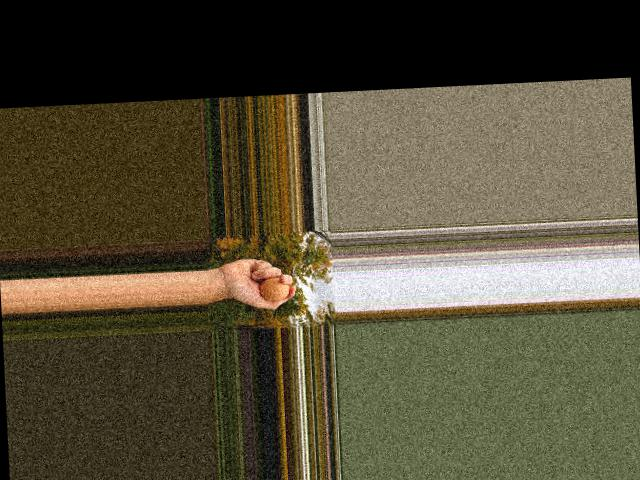egg: (259, 275, 289, 301)
